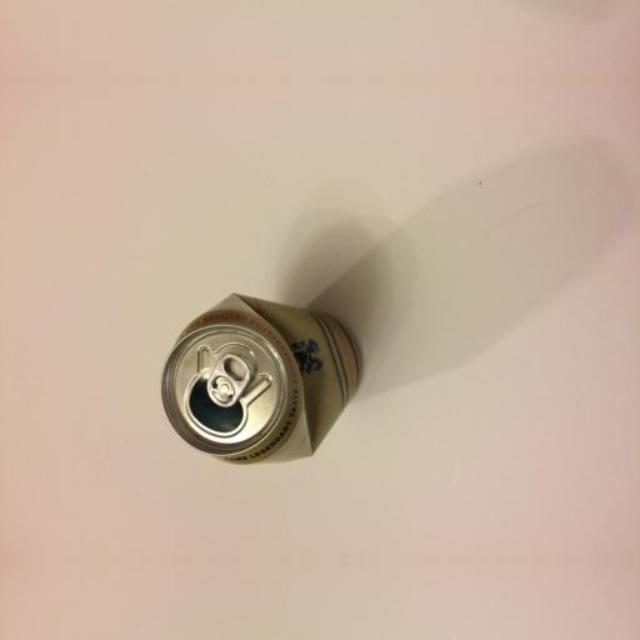Metal: (143, 264, 415, 506), (143, 614, 415, 640)
